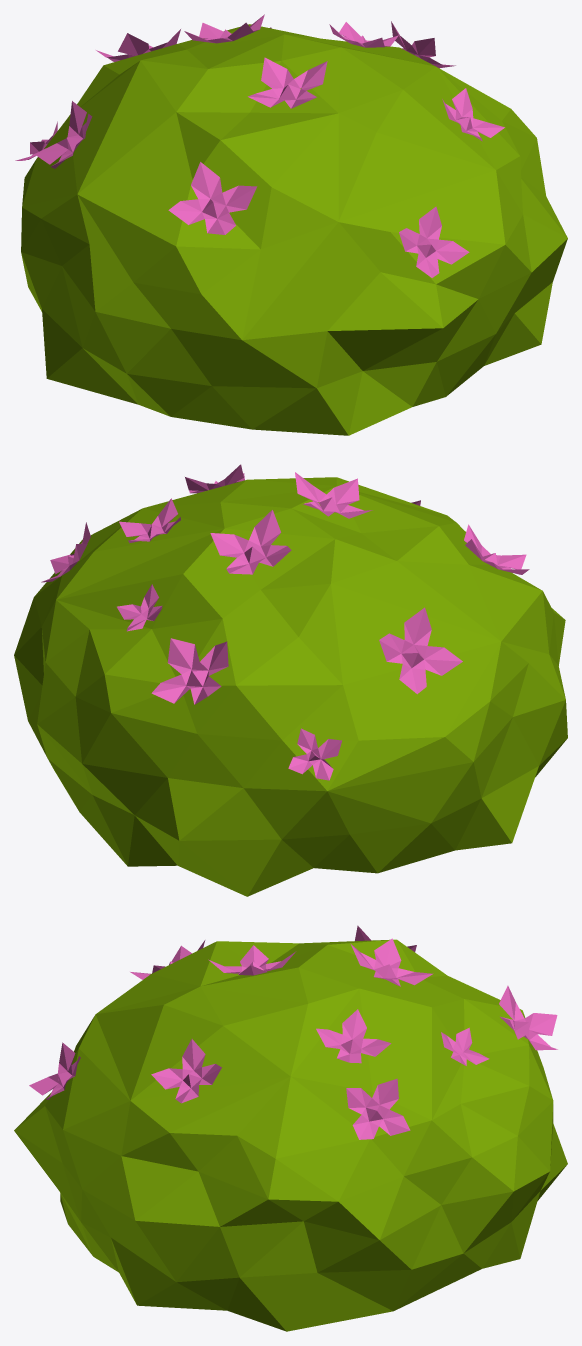
File: TreeFlowerBush.fbx
3 views of the same model, one above another, from view 1: azimuth 30°, elevation 25°; view 2: azimuth 150°, elevation 25°; view 3: azimuth 270°, elevation 25° (orthographic). The views are drawn at different scales.
Visible parts, largest first — view 1: Bush, Flowers; view 2: Bush, Flowers; view 3: Bush, Flowers.
Part boxes in pixels (x1,y1,x2,y2): Bush: (21,24,567,435); Flowers: (15,14,504,277); Bush: (14,477,567,896); Flowers: (41,464,529,780); Bush: (14,939,567,1331); Flowers: (29,925,557,1139).
Bounding box in the file's own units: 294 × 180 × 312.
